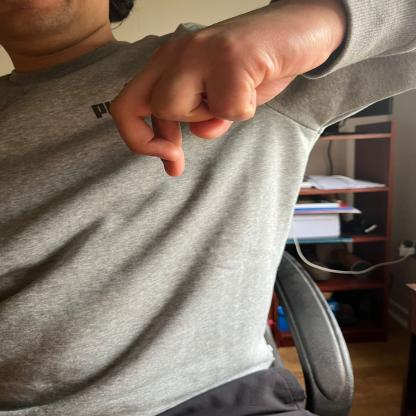P: (106, 1, 348, 181)
